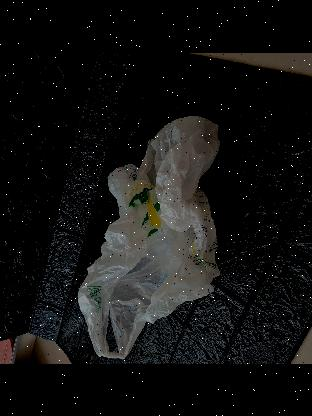Others: (76, 113, 222, 358)
